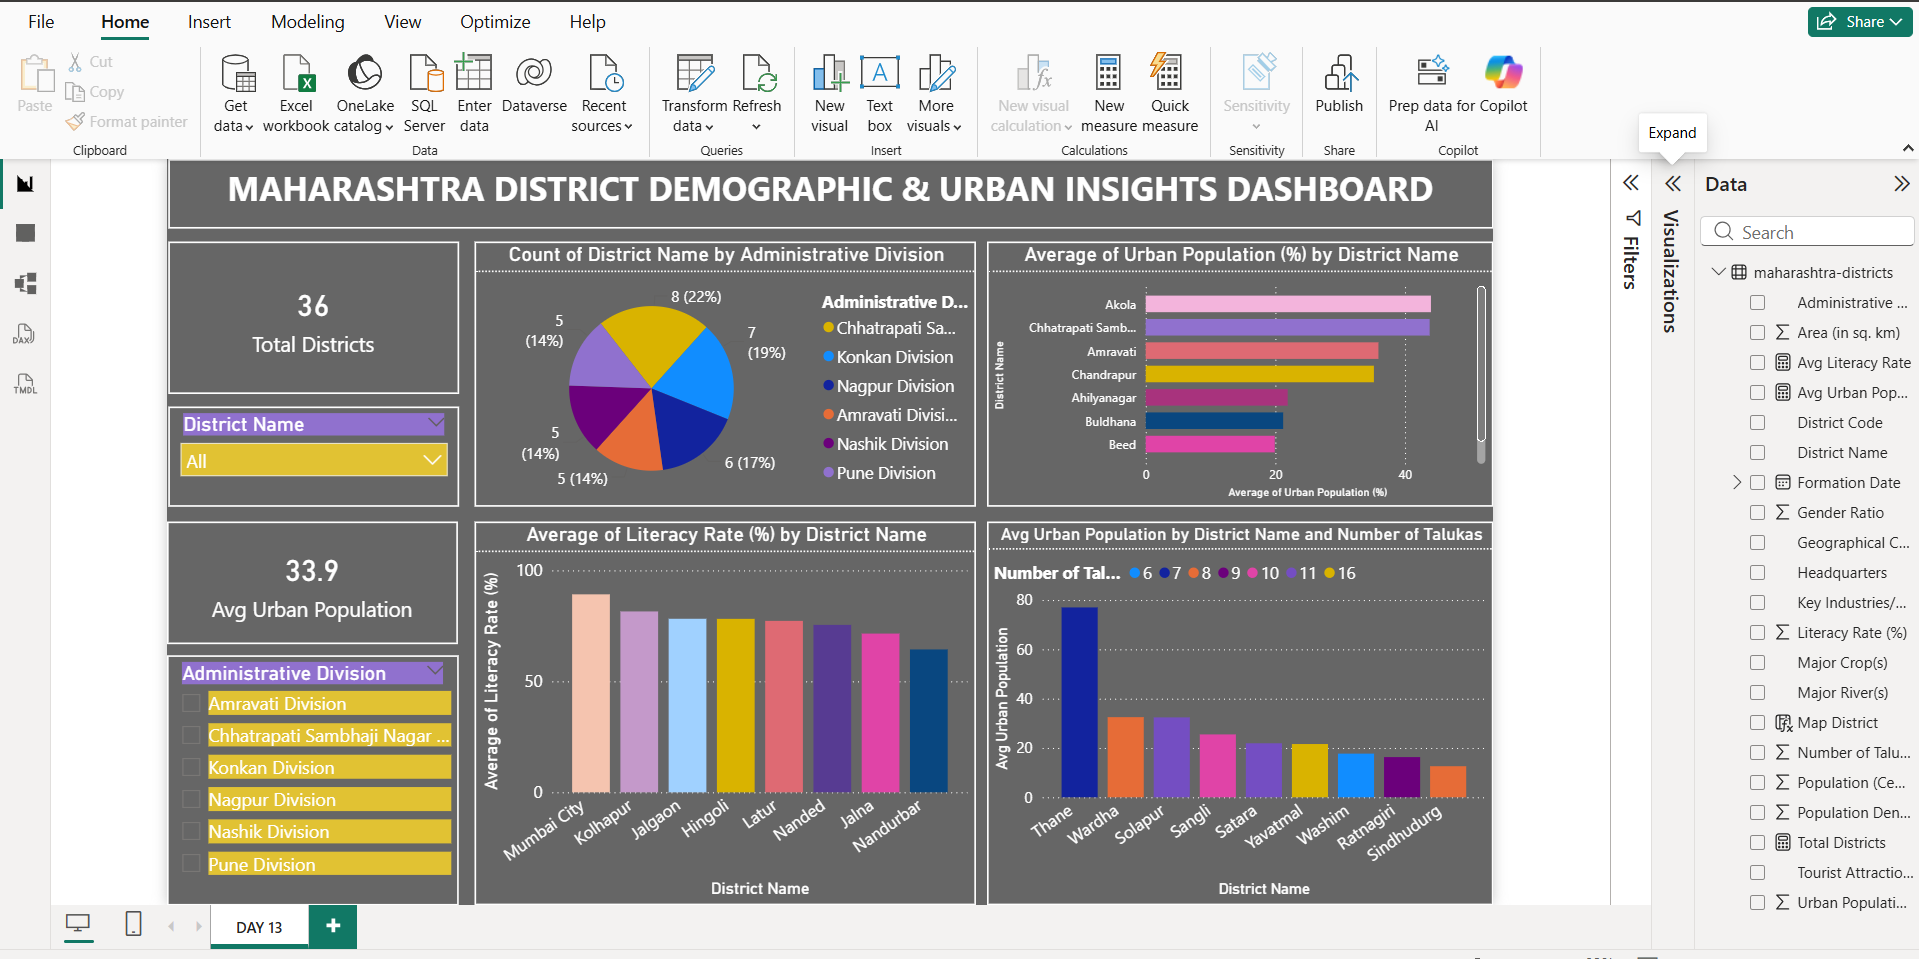

Layout of this report page (visuals, bound fields, positions):
{"tool":"powerbi","page":{"name":"DAY 13","canvas":[1280,720],"ordinal":0},"visuals":[{"type":"card","fields":{"Values":["maharashtra-districts.Total Districts"]},"box":[1.2,79.6,281.1,147.2],"z":0},{"type":"card","fields":{"Values":["maharashtra-districts.Avg Urban Population"]},"box":[0,349.9,281.1,118.2],"z":1000},{"type":"clusteredBarChart","fields":{"Category":["maharashtra-districts.District Name"],"Y":["Avg(maharashtra-districts.Urban Population (%))"]},"box":[791.4,79.6,488.6,255.8],"z":2000},{"type":"clusteredColumnChart","fields":{"Category":["maharashtra-districts.District Name"],"Y":["Avg(maharashtra-districts.Literacy Rate (%))"]},"box":[296.8,349.9,483.8,370.4],"z":3000},{"type":"pieChart","fields":{"Category":["maharashtra-districts.Administrative Division"],"Y":["CountNonNull(maharashtra-districts.District Name)"]},"box":[296.8,79.6,483.8,255.8],"z":4000},{"type":"columnChart","fields":{"Y":["maharashtra-districts.Avg Urban Population"],"Category":["maharashtra-districts.District Name"],"Series":["maharashtra-districts.Number of Talukas"]},"box":[791.4,349.9,488.6,370.4],"z":5000},{"type":"slicer","fields":{"Values":["maharashtra-districts.District Name"]},"box":[1.2,238.9,281.1,96.5],"z":6000},{"type":"slicer","fields":{"Values":["maharashtra-districts.Administrative Division"]},"box":[0,478.9,281.3,241.5],"z":7000},{"type":"textbox","box":[1.2,0,1278.8,67.6],"z":8000}]}

Visuals, with their boxes on the page's 1280x720 design canvas (x1, y1, x2, y2). These are canvas units, not pixel positions in the 1919x959 screenshot, which may show the page scaled, cropped or inside an application window:
card - maharashtra-districts.Total Districts: [1,80,282,227]
card - maharashtra-districts.Avg Urban Population: [0,350,281,468]
clusteredBarChart - maharashtra-districts.District Name x Avg(maharashtra-districts.Urban Population (%)): [791,80,1280,335]
clusteredColumnChart - maharashtra-districts.District Name x Avg(maharashtra-districts.Literacy Rate (%)): [297,350,781,720]
pieChart - maharashtra-districts.Administrative Division x CountNonNull(maharashtra-districts.District Name): [297,80,781,335]
columnChart - maharashtra-districts.Avg Urban Population x maharashtra-districts.District Name: [791,350,1280,720]
slicer - maharashtra-districts.District Name: [1,239,282,335]
slicer - maharashtra-districts.Administrative Division: [0,479,281,720]
textbox: [1,0,1280,68]
